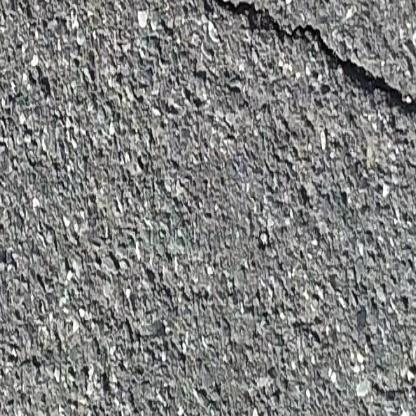Cracks: (164, 0, 416, 140)
